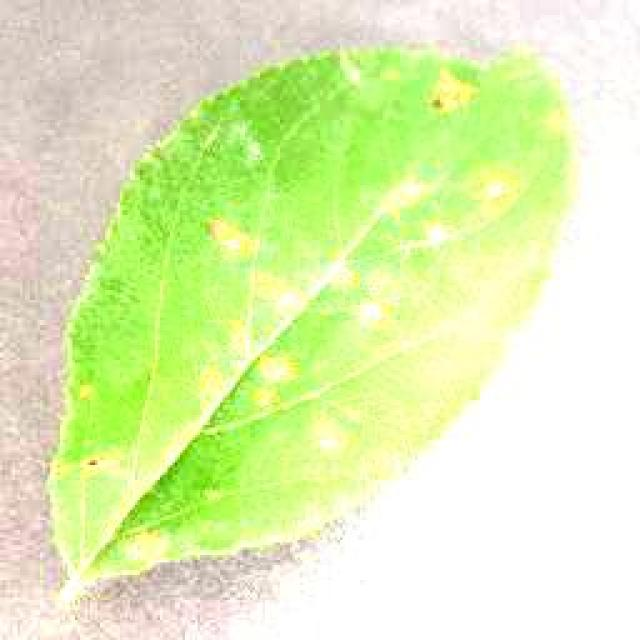apple healthy: (42, 35, 580, 603)
